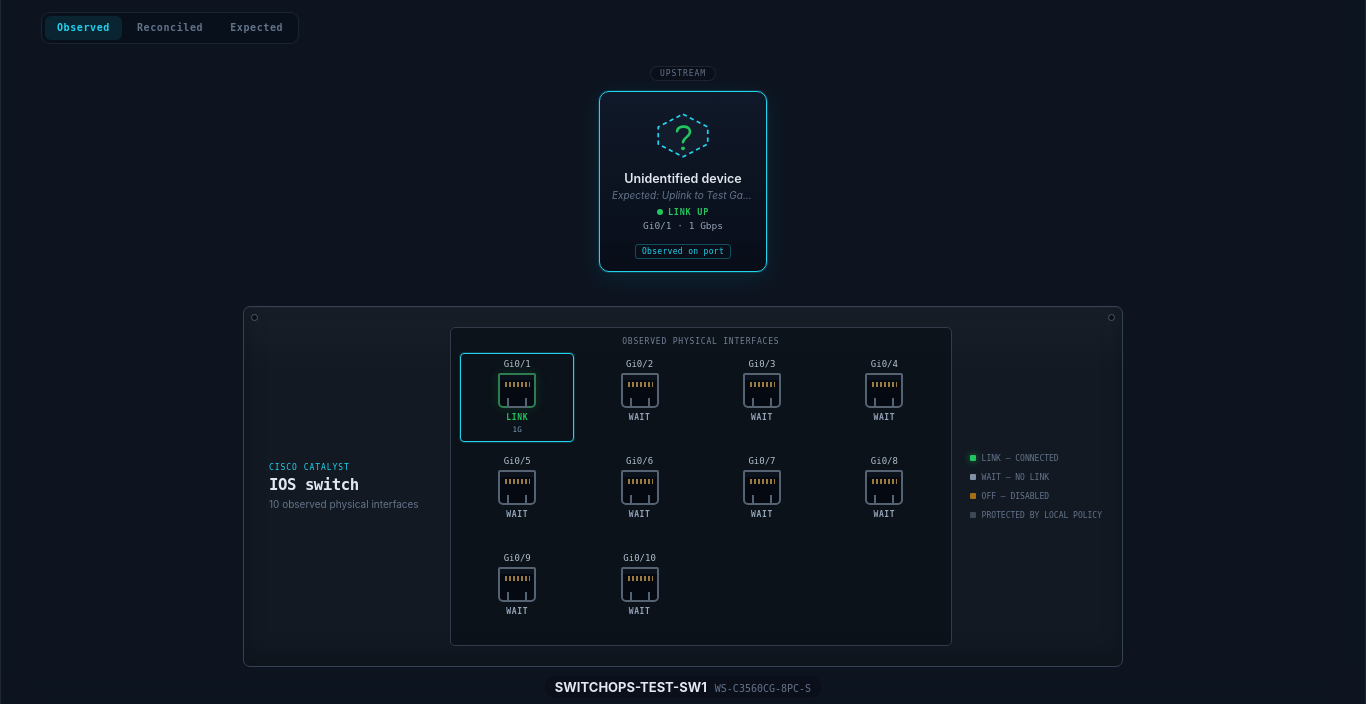
it: observed versus expected in the map › flags an interface that needs a decision
Click the tab "Reconciled". click: click(170, 28)
box: x1=125 y1=16 x2=215 y2=40
(page scrolled)
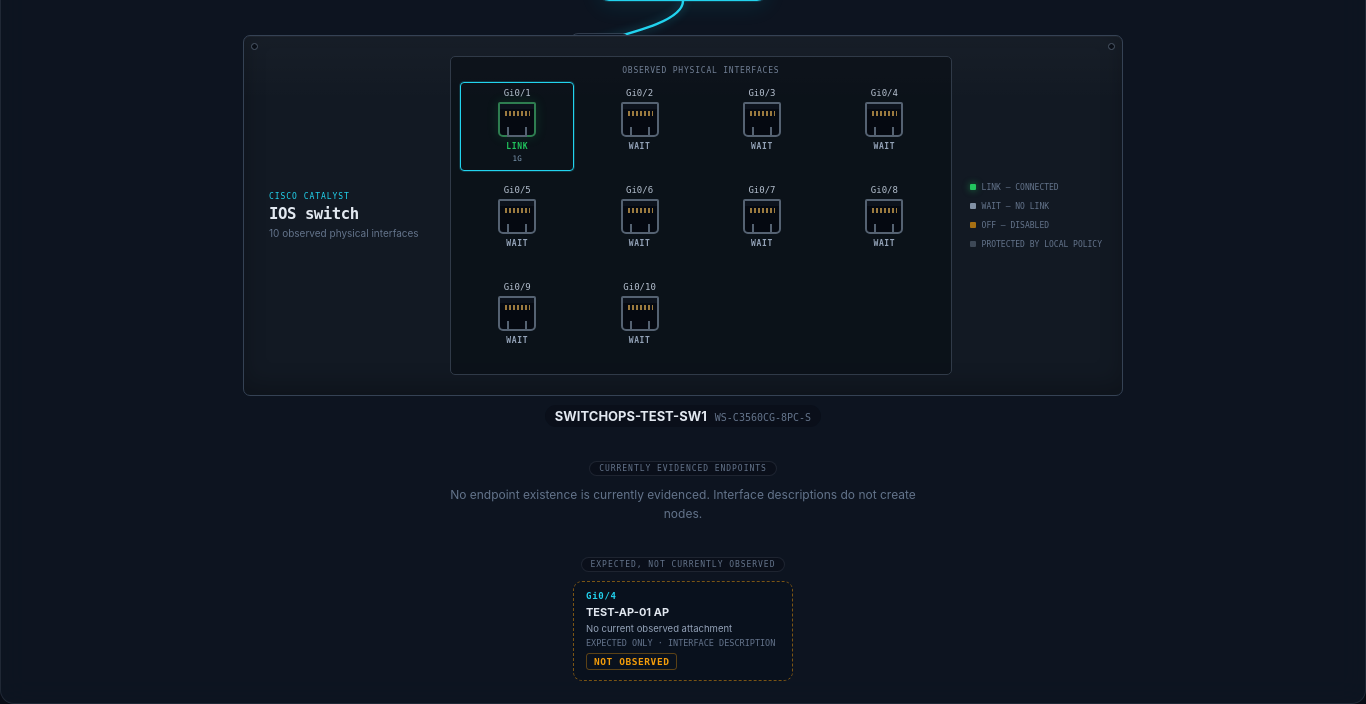
Result: the text "Not observed" is shown at x1=586 y1=653 x2=678 y2=670
